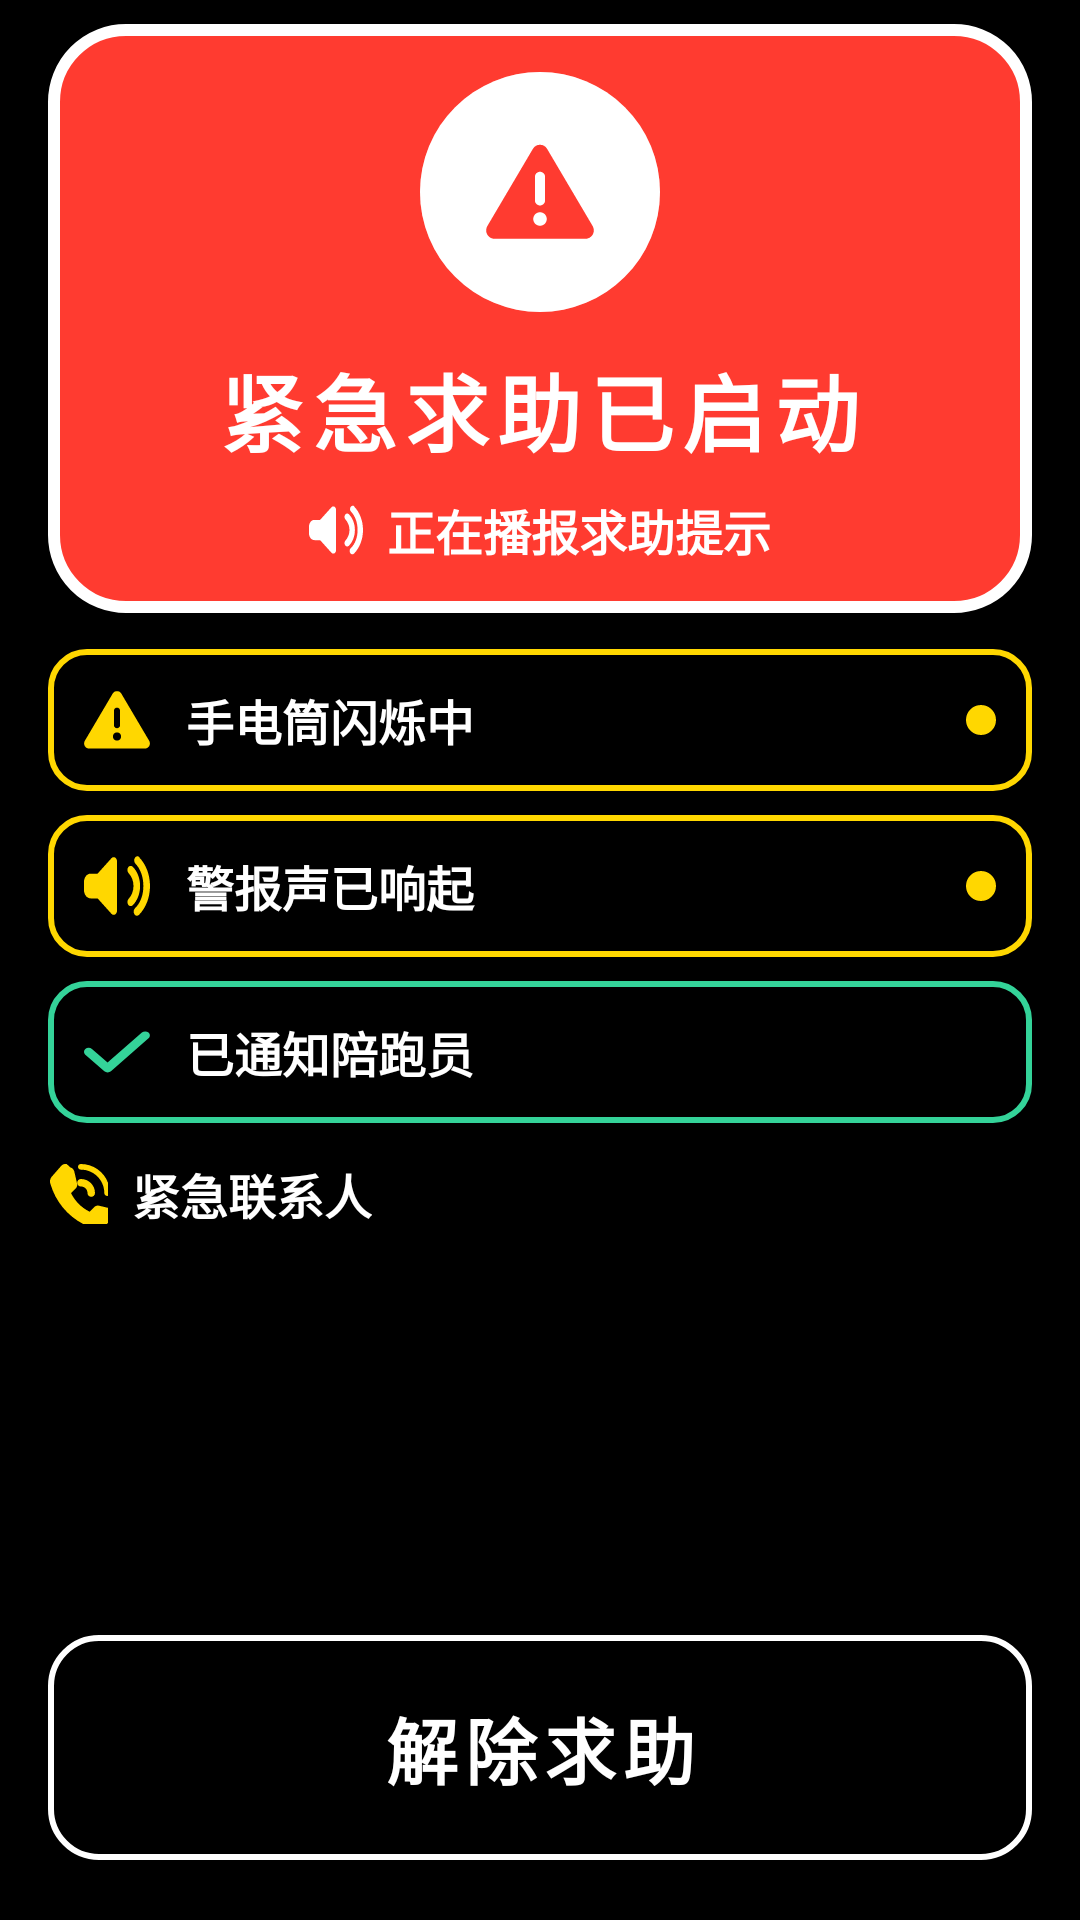

Where to tap for icons on this 1080 × 1920 app screen, as point (x, y):
check: point (117, 1052)
phone volume: point (79, 1194)
volume high: point (336, 530), point (117, 886)
warning triangle: point (540, 191), point (117, 720)
